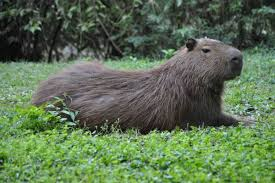capivara: (27, 34, 246, 133)
